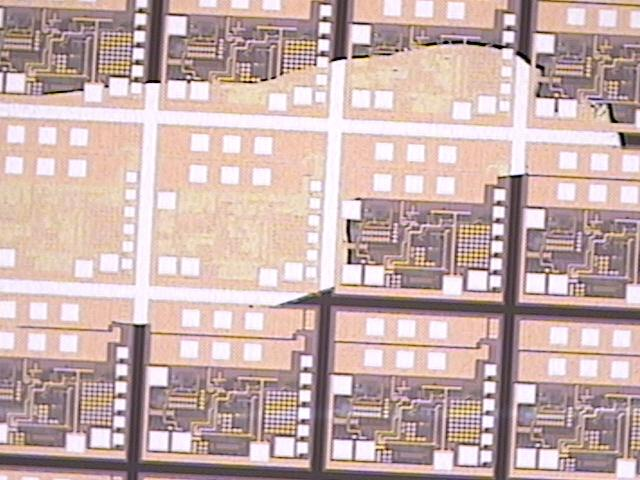BLOCK ETCH: (1, 38, 640, 360)
